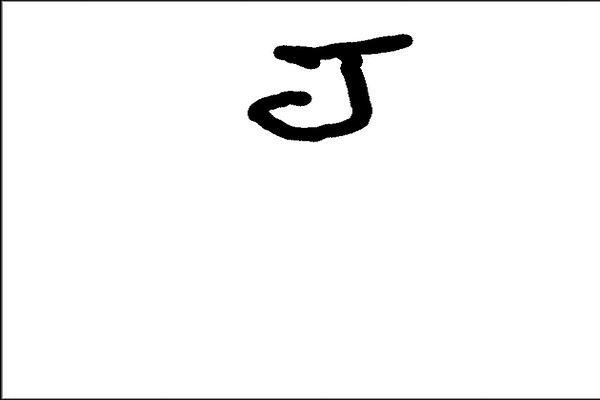J: (242, 27, 420, 141)
